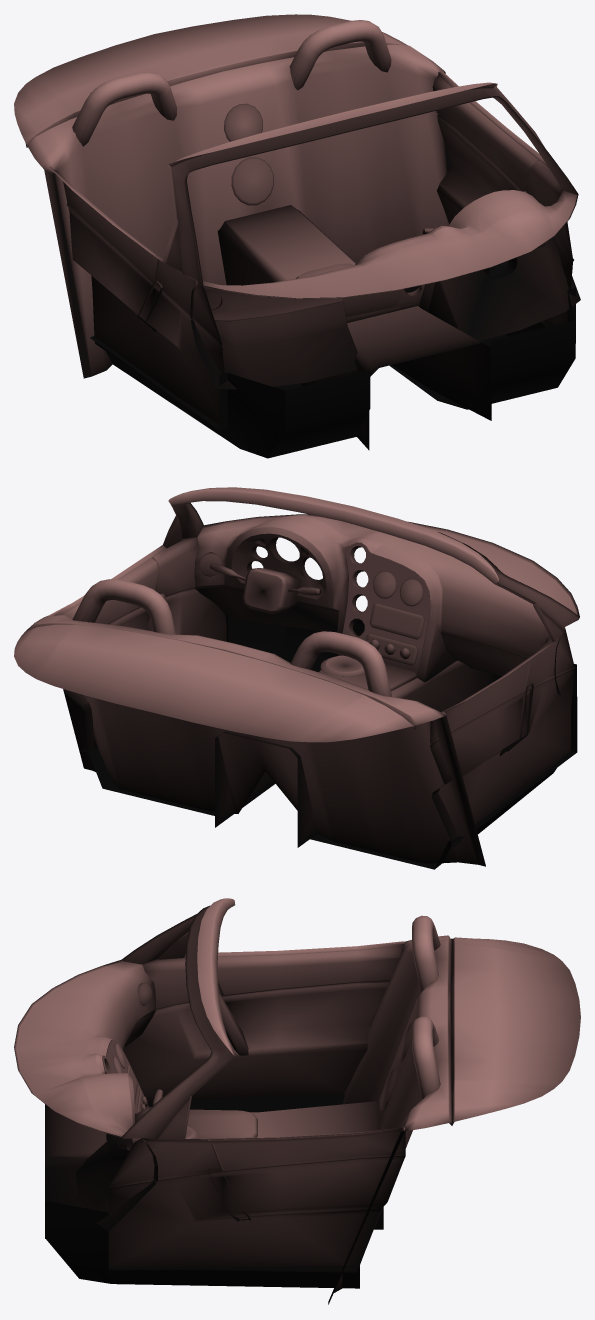
File: Viper_Interior_Trim.fbx
3 renders of one model, top to bottom at view 1: azimuth 30°, elevation 25°; view 2: azimuth 150°, elevation 25°; view 3: azimuth 270°, elevation 25°, orthographic. The views are drawn at different scales.
Parts seen in each view (by area): view 1: Viper_Interior_Trim; view 2: Viper_Interior_Trim; view 3: Viper_Interior_Trim.
Part boxes in pixels (x1,y1,x2,y2): Viper_Interior_Trim: (14,14,580,458); Viper_Interior_Trim: (14,487,579,869); Viper_Interior_Trim: (14,898,580,1304).
Size of the model in its own units: 148 by 92.31 by 186.
